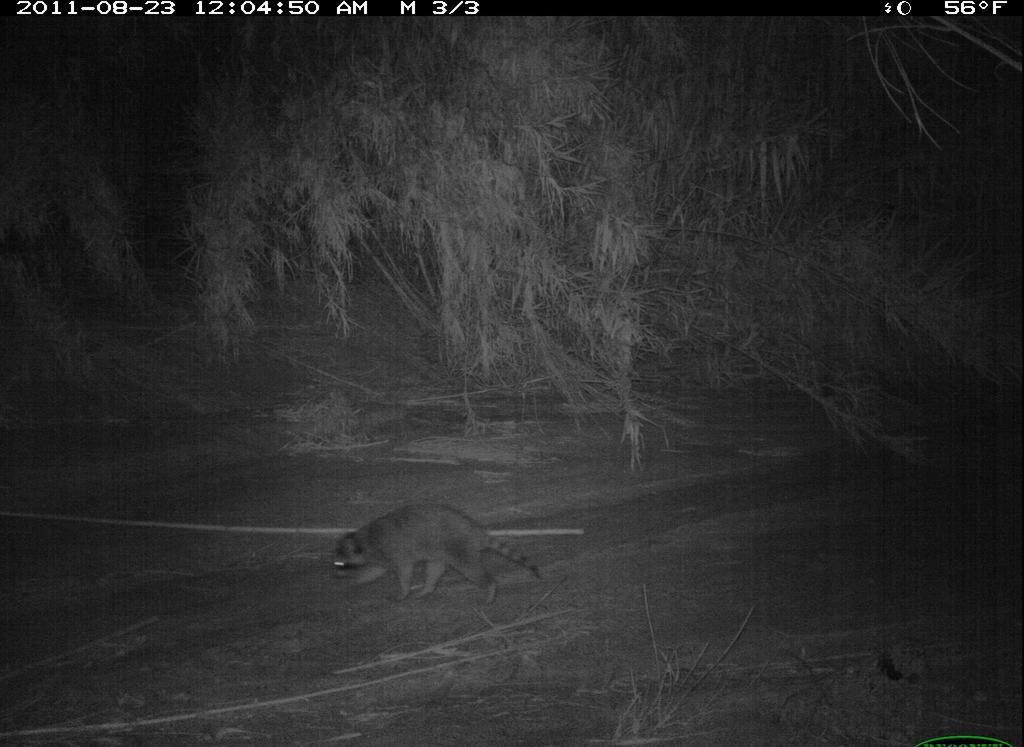raccoon: (321, 499, 548, 608)
